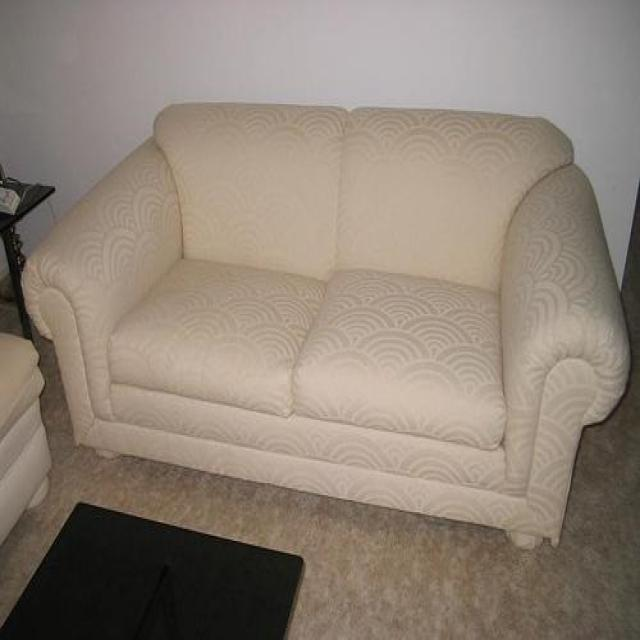sofa: (21, 100, 631, 556)
